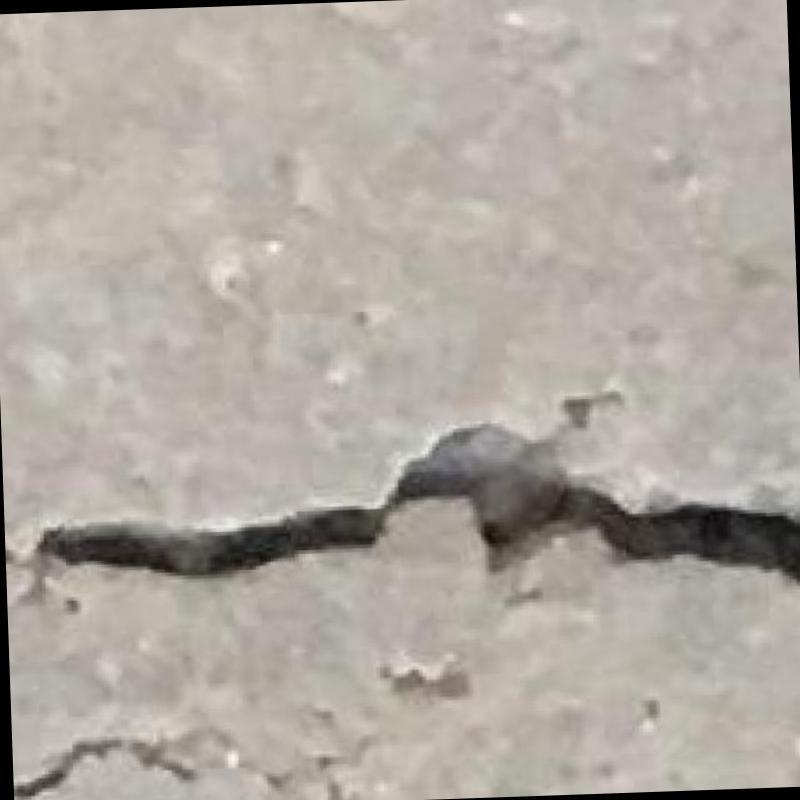pothole: (34, 423, 800, 580)
